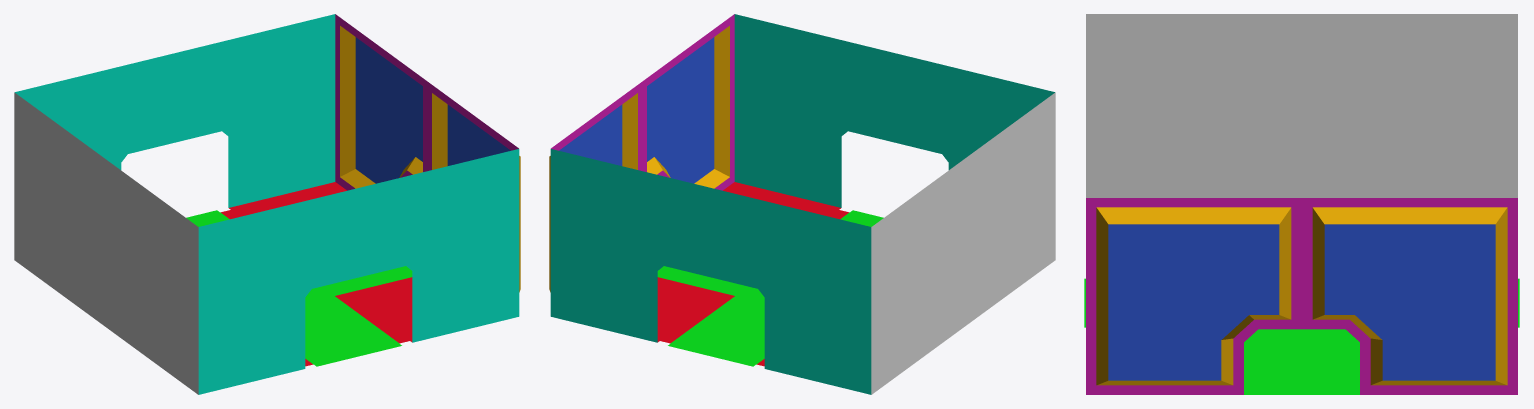
File: Big Room 1.0.fbx
The picture shows the model from 3 angles, left to right: view 1: azimuth 30°, elevation 25°; view 2: azimuth 150°, elevation 25°; view 3: azimuth 270°, elevation 25°; orthographic projection. The views are drawn at different scales.
Parts seen in each view (by area): view 1: Big+Room1; view 2: Big+Room1; view 3: Big+Room1.
Boxes of the visible parts, x1,y1,x2,y2 form: Big+Room1: (14,14,520,394); Big+Room1: (549,14,1055,394); Big+Room1: (1084,14,1519,394).
Size of the model in its own units: 3100 by 1500 by 3000.
